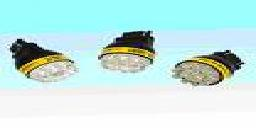LED: (21, 53, 76, 84), (171, 61, 226, 89), (99, 48, 151, 77)
